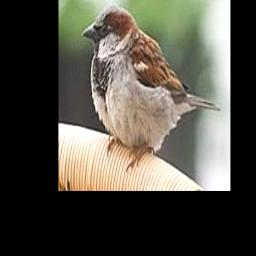Sparrow: (81, 4, 220, 171)
